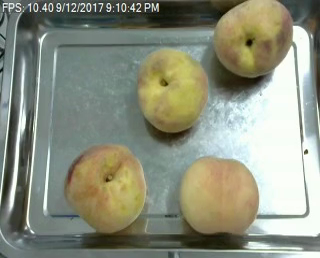Peach: (63, 144, 147, 233), (180, 156, 259, 237), (136, 46, 209, 133), (213, 0, 293, 77)
